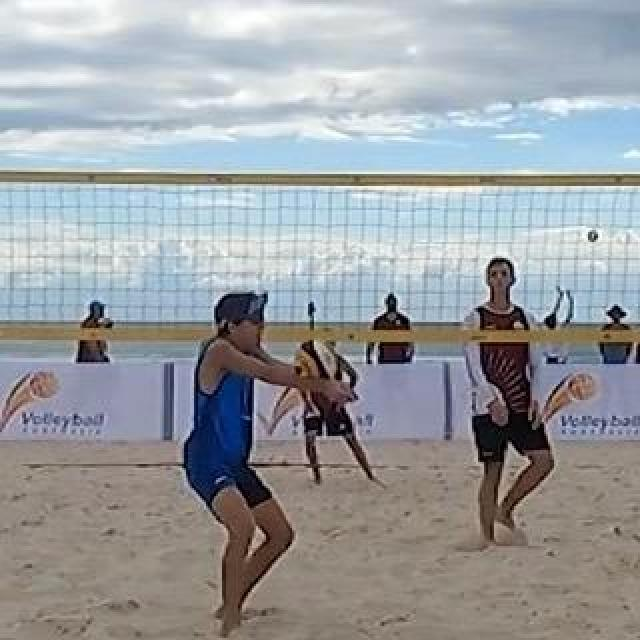volleyball: (294, 338, 338, 386)
